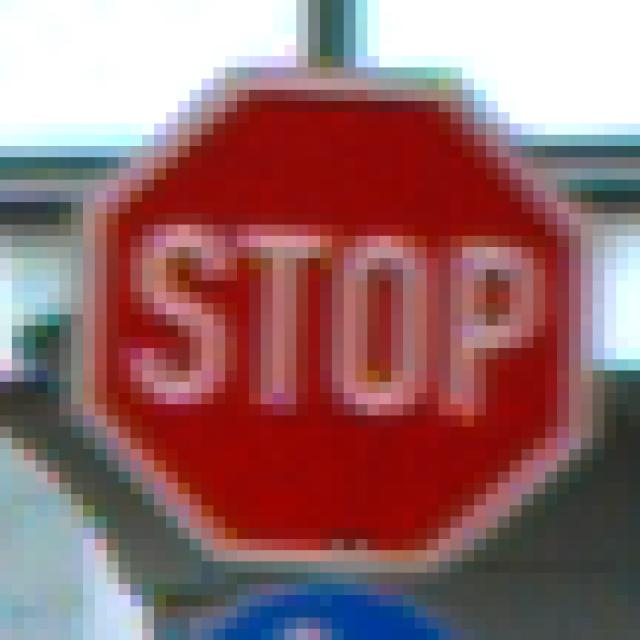STOP: (60, 68, 582, 585)
